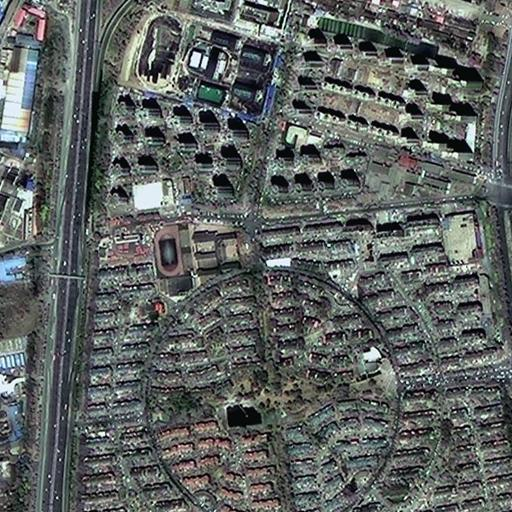school: (111, 10, 284, 120), (147, 219, 244, 301)
